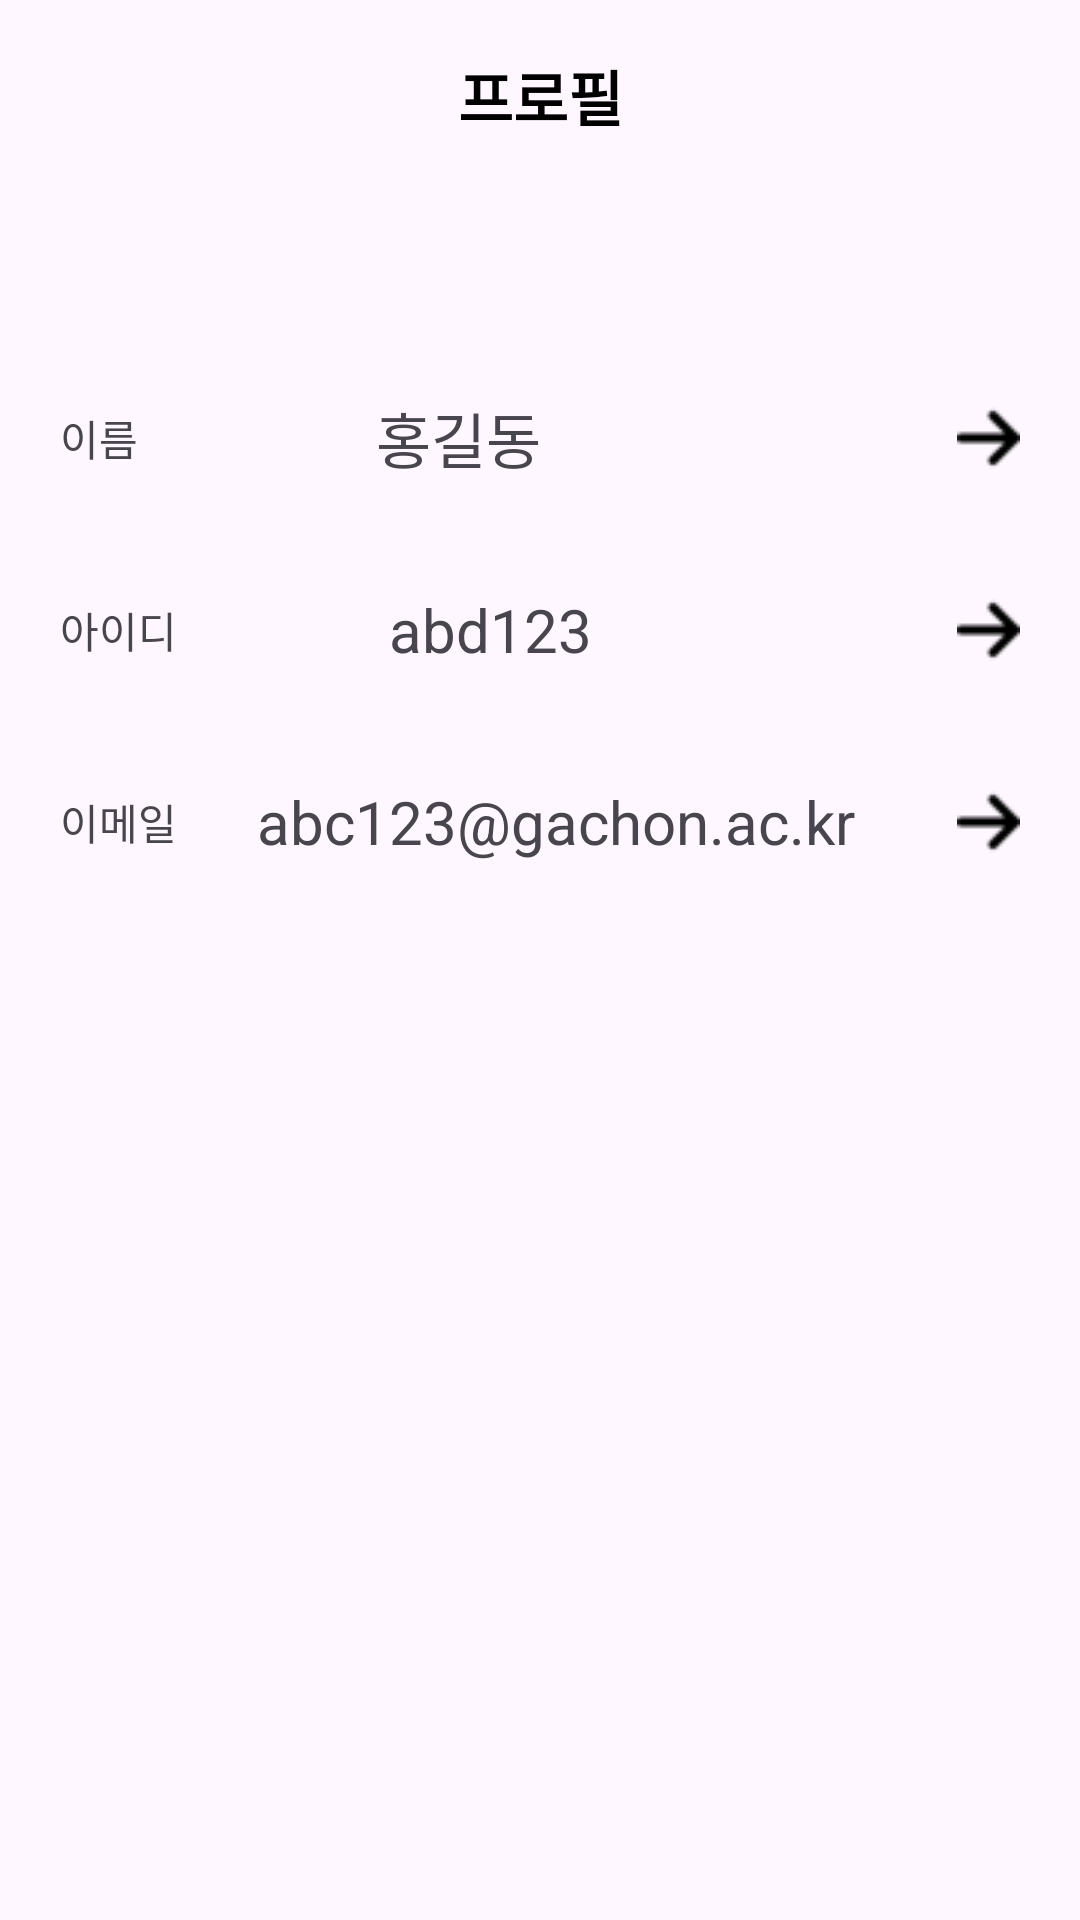

Icons on this 1080×1920 Android screen, each with the point to tap as point (x, y):
arrow right: point (988, 438), point (988, 630), point (988, 822)
